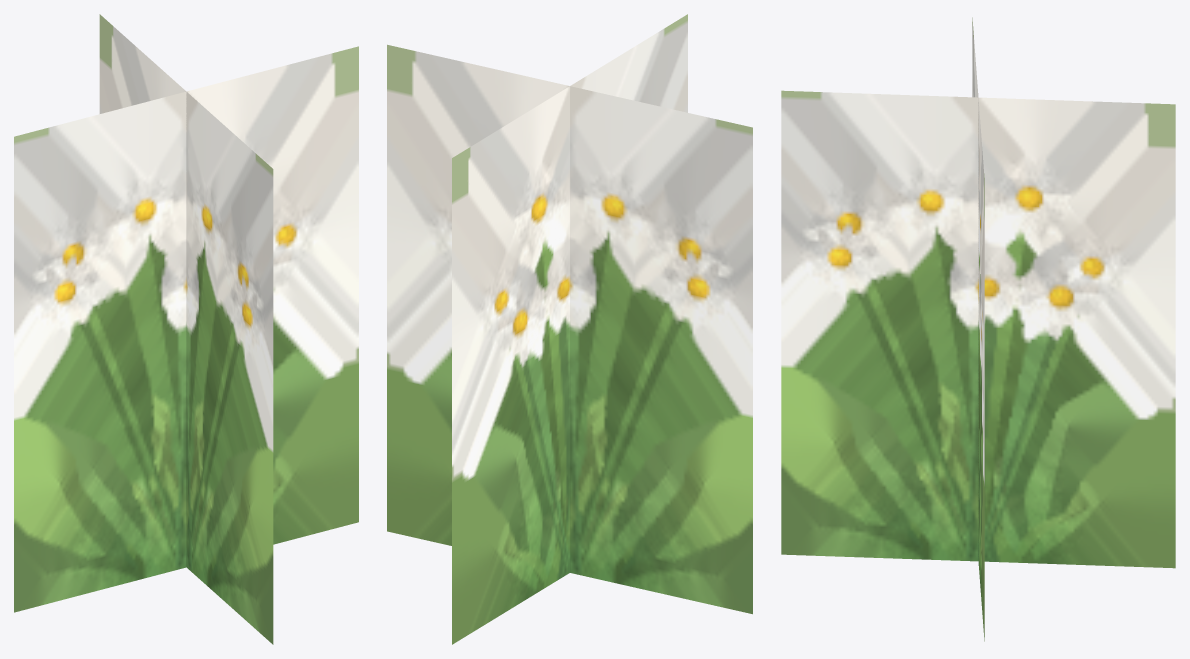
File: flower_daisy.glb
3 views of the same model, side by side, from view 1: azimuth 30°, elevation 25°; view 2: azimuth 150°, elevation 25°; view 3: azimuth 270°, elevation 25° (orthographic). The views are drawn at different scales.
Parts seen in each view (by area): view 1: flower_daisy; view 2: flower_daisy; view 3: flower_daisy.
Part boxes in pixels (box(x1,y1,x2,y2)): flower_daisy: box(14, 14, 358, 644); flower_daisy: box(387, 14, 752, 644); flower_daisy: box(781, 17, 1175, 641).
Size of the model in its own units: 0.1699 by 0.22 by 0.1694.
1 material, 1 textured.
